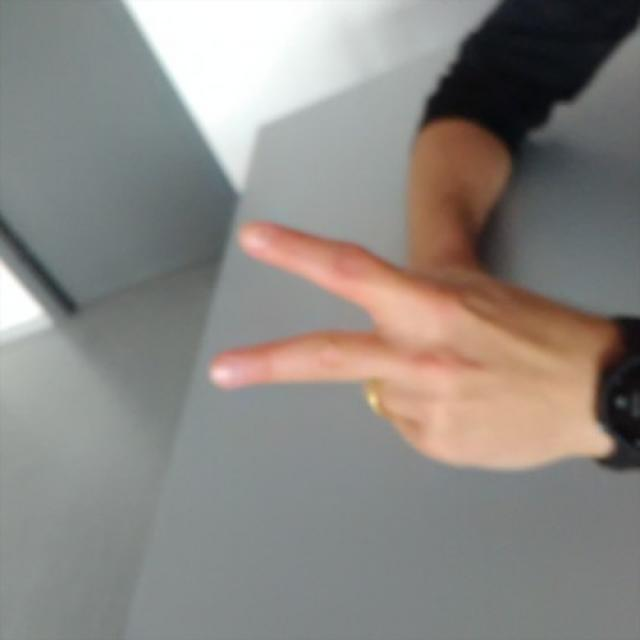scissors: (210, 213, 570, 474)
